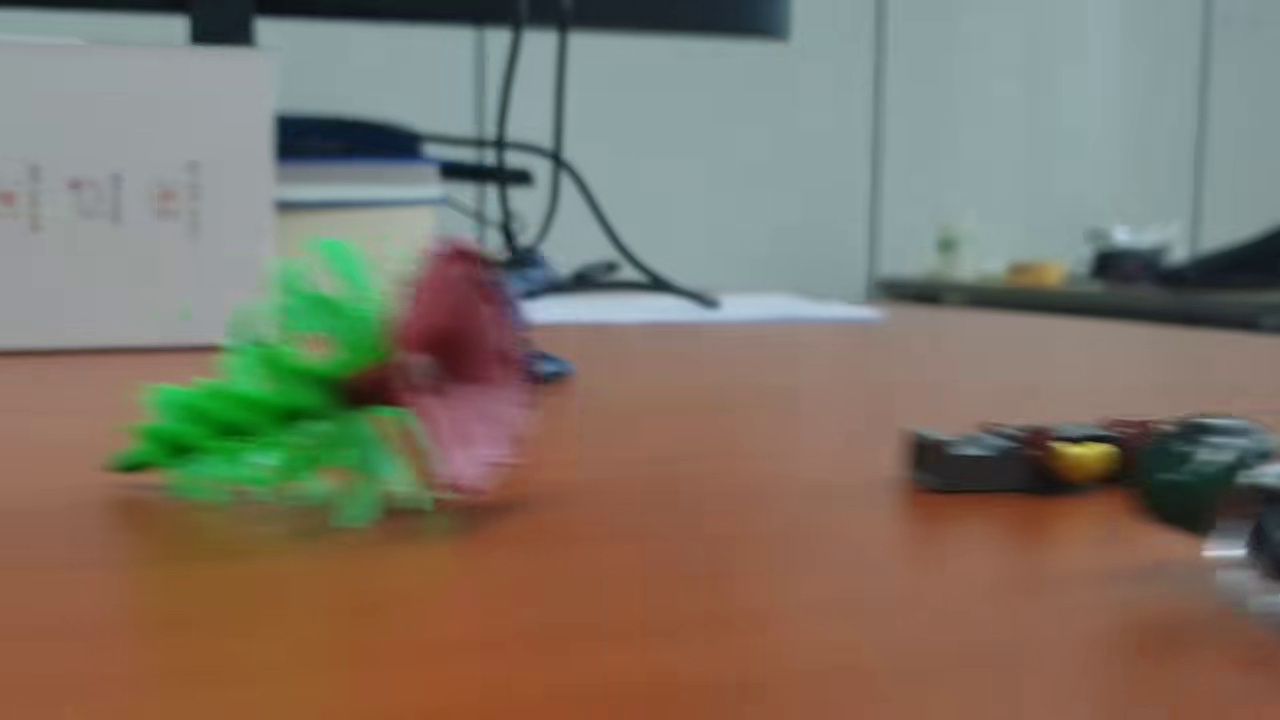people: (1144, 410, 1280, 626), (906, 416, 1181, 496)
tree: (91, 229, 532, 534)
